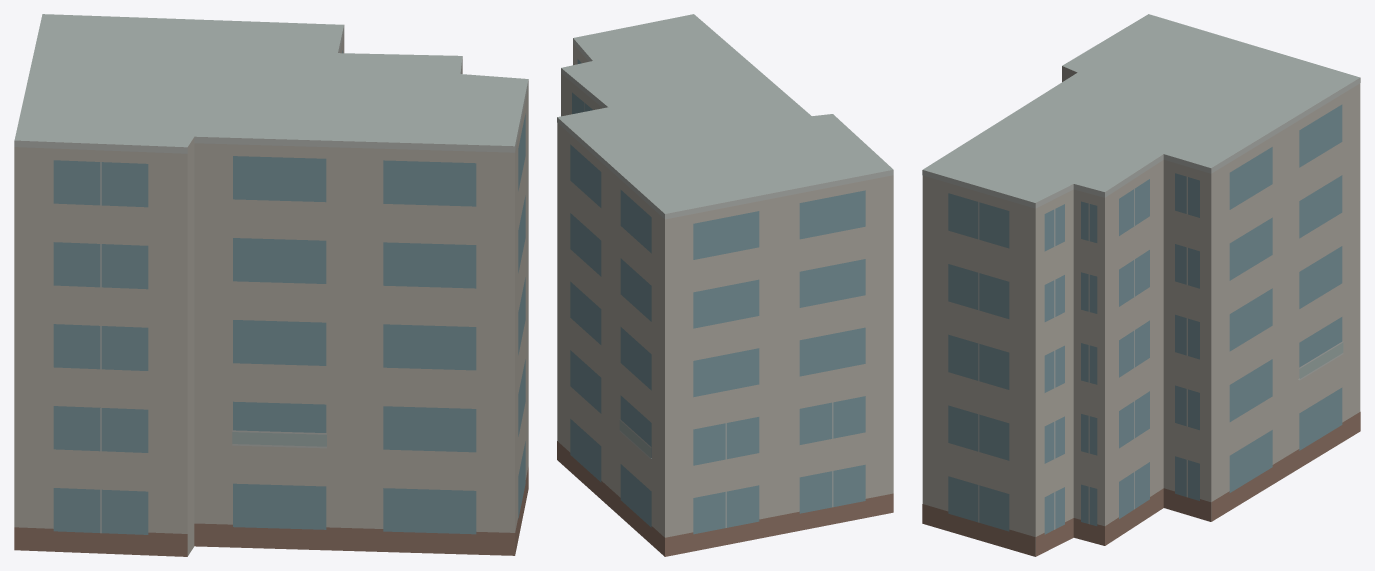
Rendered from survey-upis-32837351.glb.
The picture shows the model from 3 angles, left to right: view 1: azimuth 30°, elevation 25°; view 2: azimuth 150°, elevation 25°; view 3: azimuth 270°, elevation 25°; orthographic projection. The views are drawn at different scales.
Visible parts, largest first — view 1: survey-upis-32837351.tmp; view 2: survey-upis-32837351.tmp; view 3: survey-upis-32837351.tmp.
Part boxes in pixels (x1,y1,x2,y2): survey-upis-32837351.tmp: [14, 14, 528, 556]; survey-upis-32837351.tmp: [557, 14, 893, 556]; survey-upis-32837351.tmp: [922, 14, 1360, 556].
Size of the model in its own units: 17.72 by 15.45 by 17.34.
